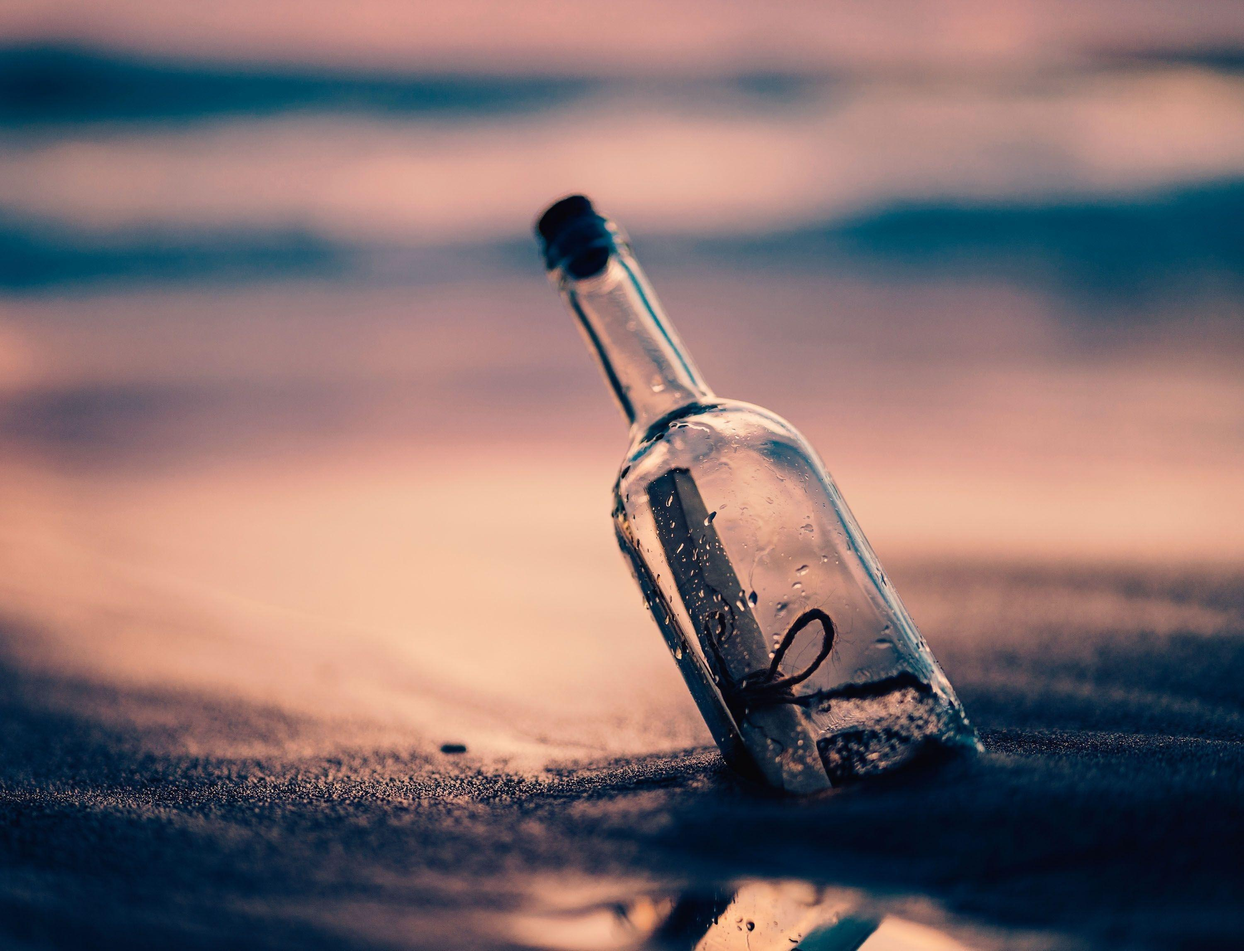bottle-glass: (528, 189, 963, 783)
